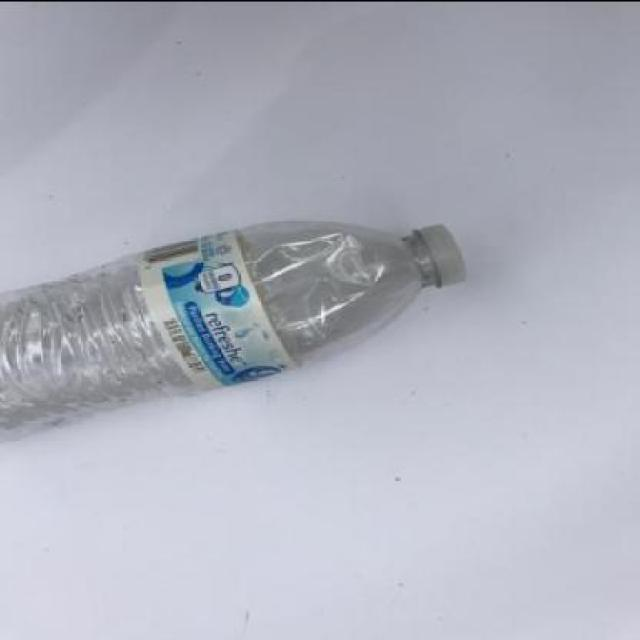PLASTIC: (0, 221, 458, 441), (132, 228, 296, 390), (402, 225, 462, 286)
